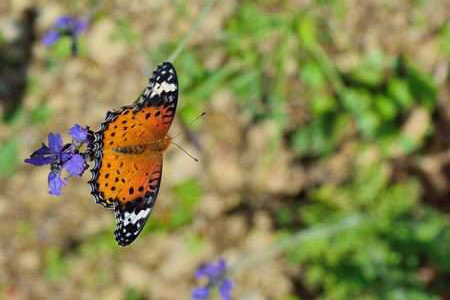Argyreus hyperbius: (83, 59, 209, 247)
butterfly: (85, 61, 211, 249)
